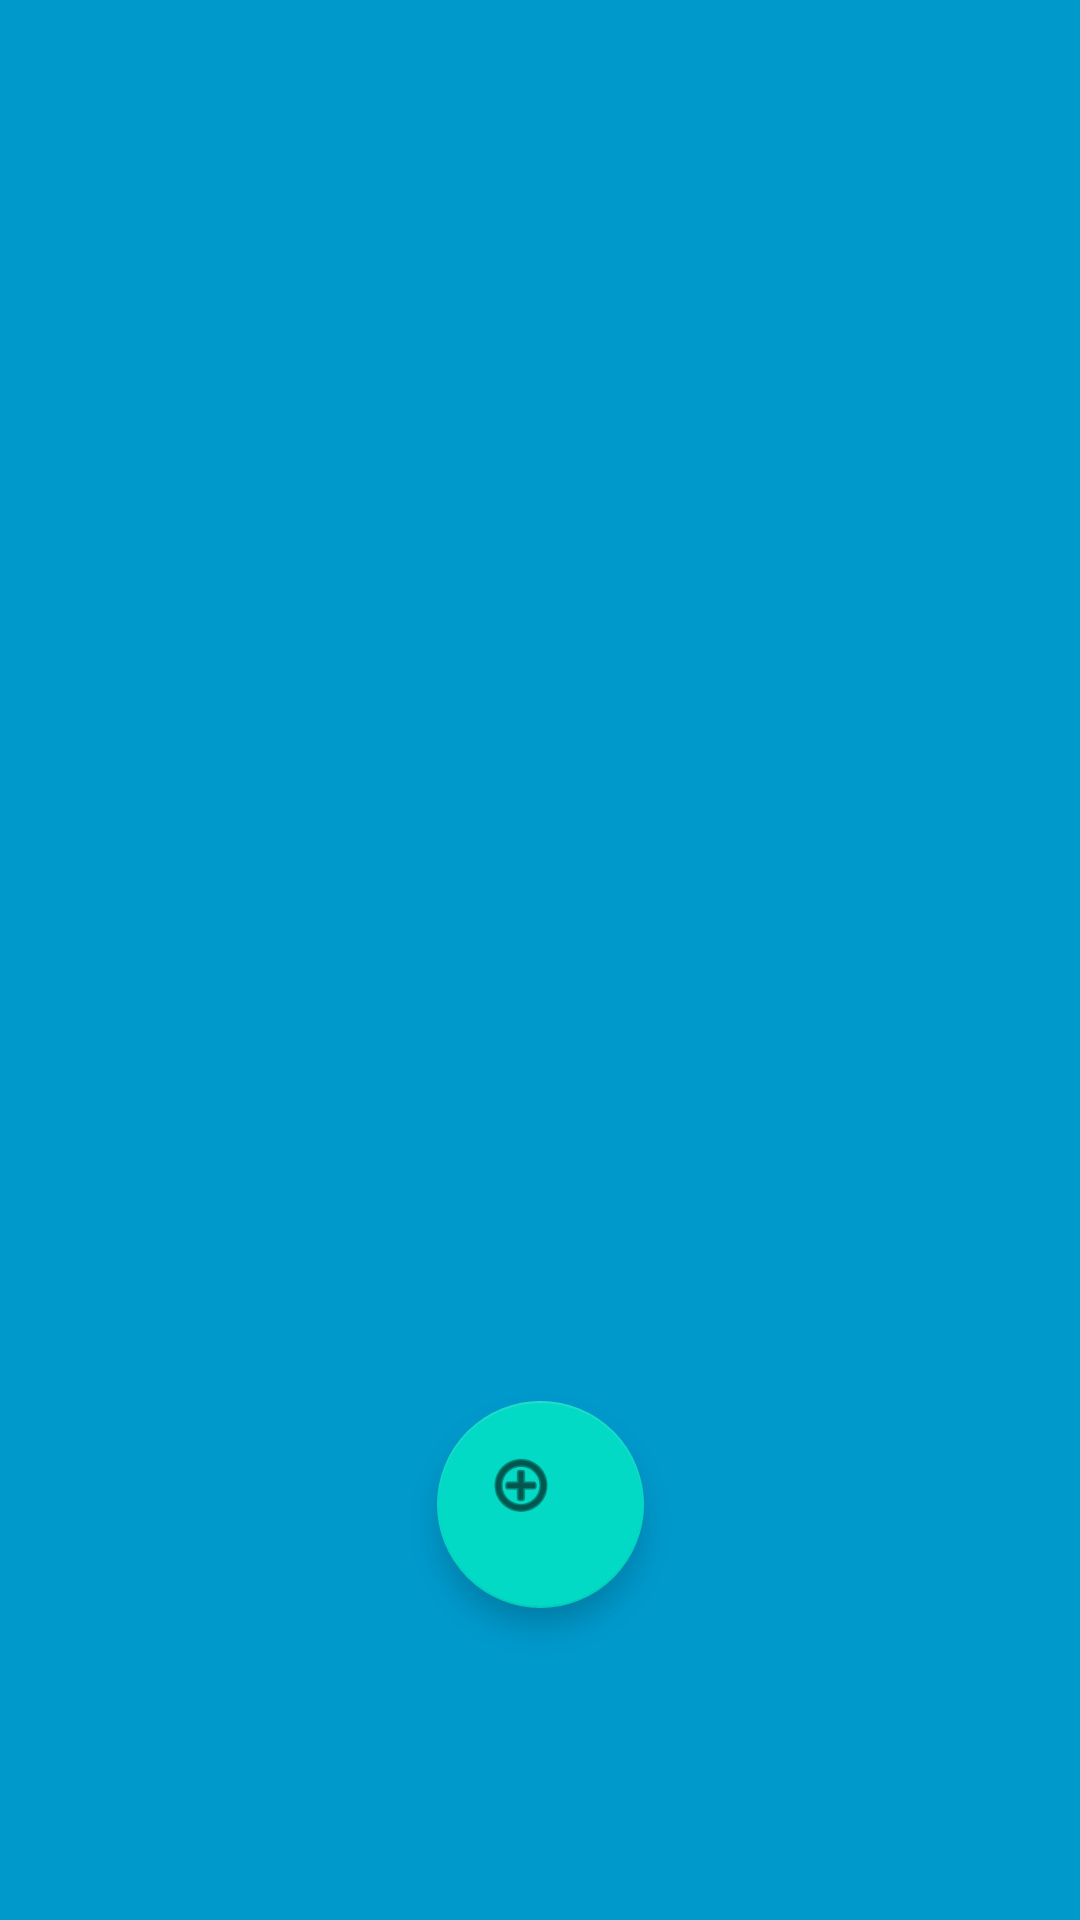

Screen size 1080px x 1920px. Icon name, then its center in pixels as point (x, y):
add: point (540, 1504)
